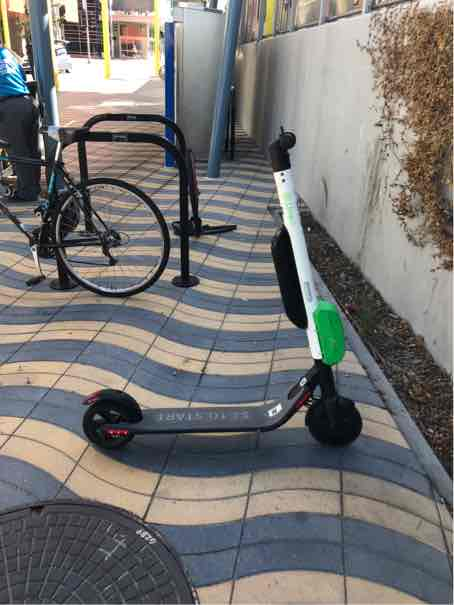scooter: (67, 113, 365, 460)
